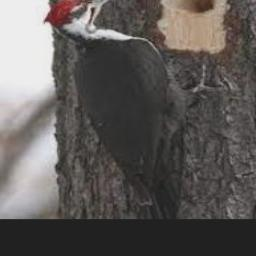Woodpecker: (44, 0, 222, 218)
